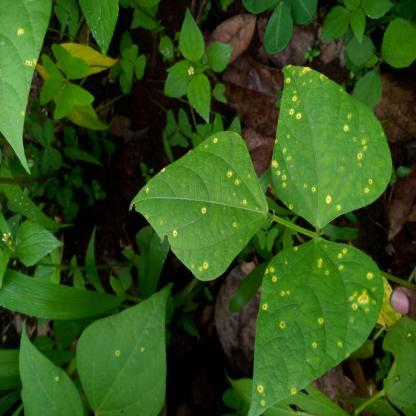Beans_Rust: (250, 238, 384, 409), (128, 126, 257, 279), (271, 59, 388, 218), (77, 284, 177, 416), (0, 0, 49, 171), (18, 325, 79, 416)
